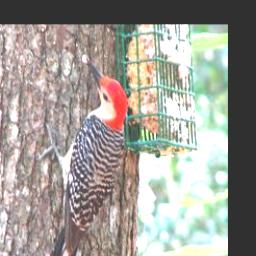Woodpecker: (33, 55, 127, 256)
